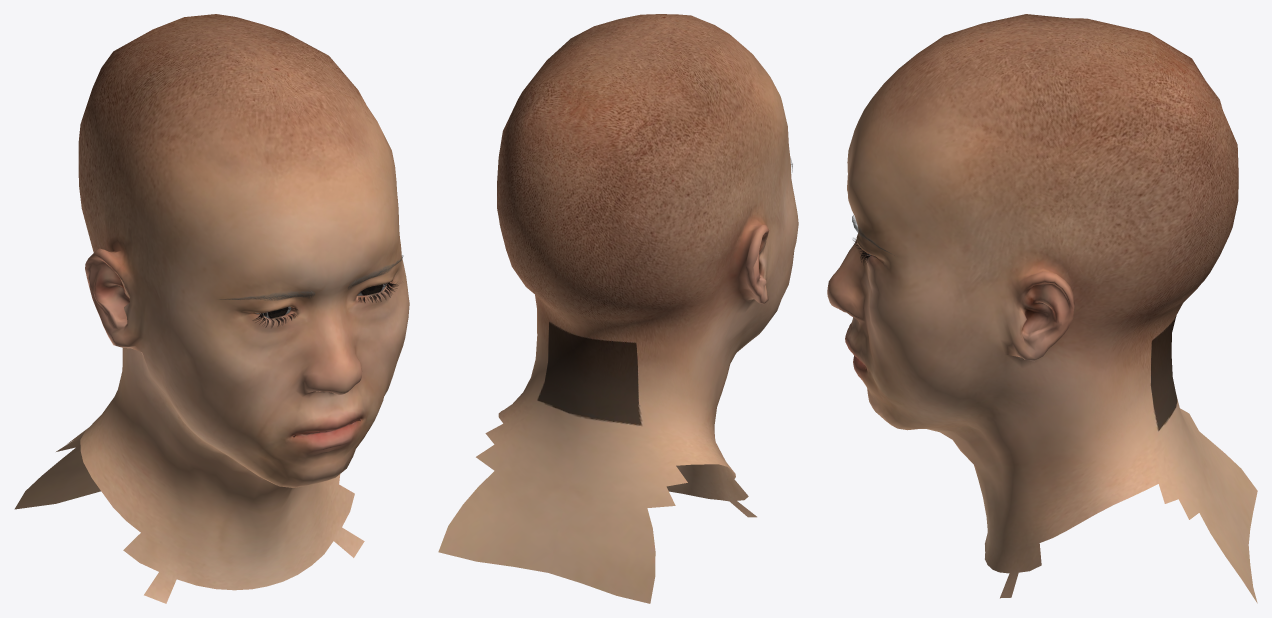
File: patient05.glb
The picture shows the model from 3 angles, left to right: view 1: azimuth 30°, elevation 25°; view 2: azimuth 150°, elevation 25°; view 3: azimuth 270°, elevation 25°; orthographic projection. The views are drawn at different scales.
Parts seen in each view (by area): view 1: kim_sajang.body, kim_sajang.eyebrow001, kim_sajang.eyelashes01; view 2: kim_sajang.body; view 3: kim_sajang.body.
Boxes of the visible parts, x1=… form: kim_sajang.body: x1=14, y1=14, x2=409, y2=603; kim_sajang.eyebrow001: x1=220, y1=255, x2=403, y2=300; kim_sajang.eyelashes01: x1=253, y1=282, x2=398, y2=327; kim_sajang.body: x1=438, y1=14, x2=798, y2=603; kim_sajang.body: x1=827, y1=14, x2=1257, y2=603.
Bounding box in the file's own units: 0.1679 × 0.2997 × 0.2241.
7 materials, 6 textured.
